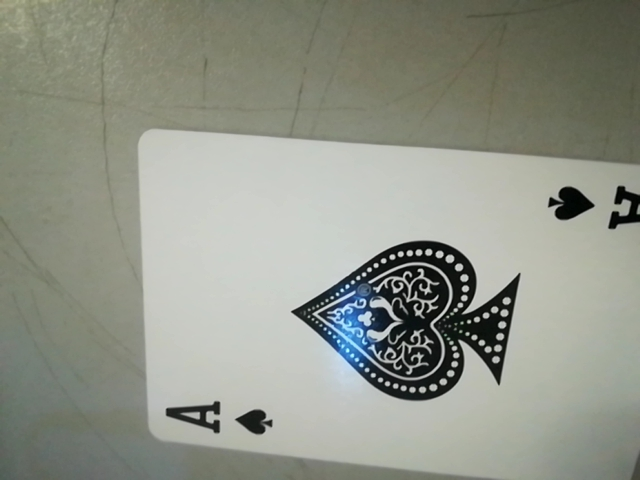ht a: (150, 393, 292, 452)
